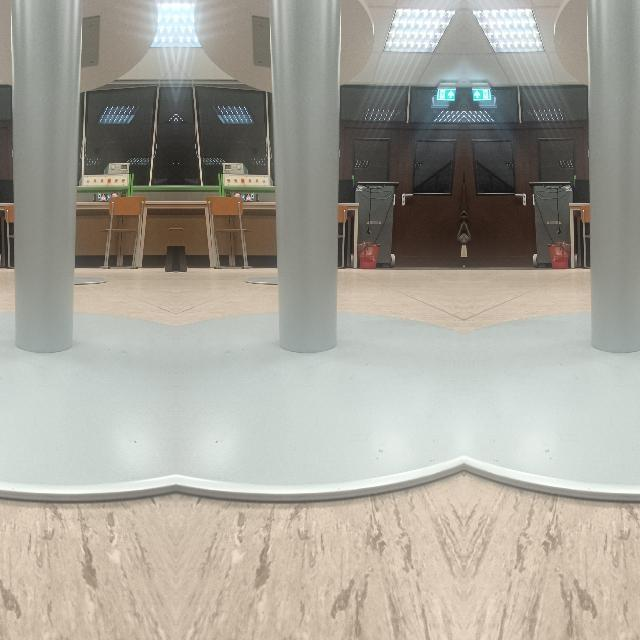obstacle: (176, 112, 464, 504), (463, 112, 640, 503), (0, 112, 174, 503)
